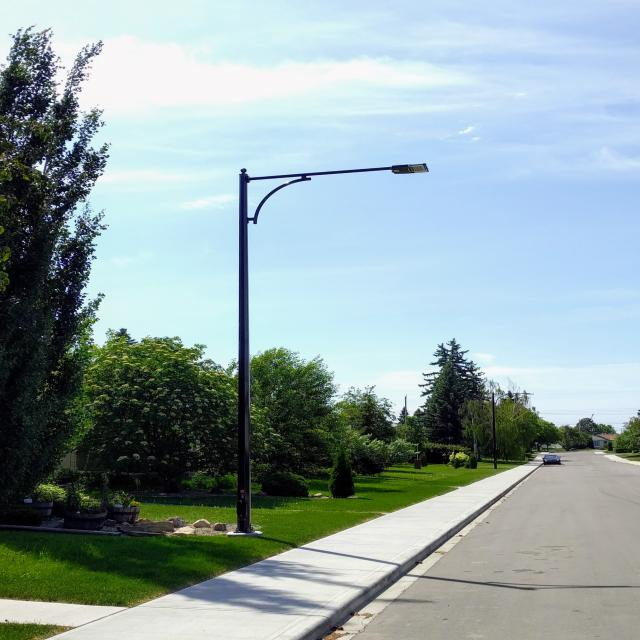Street Light: (234, 162, 430, 534), (493, 392, 533, 469)
